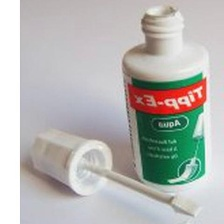correction_fluid: (117, 0, 213, 192)
